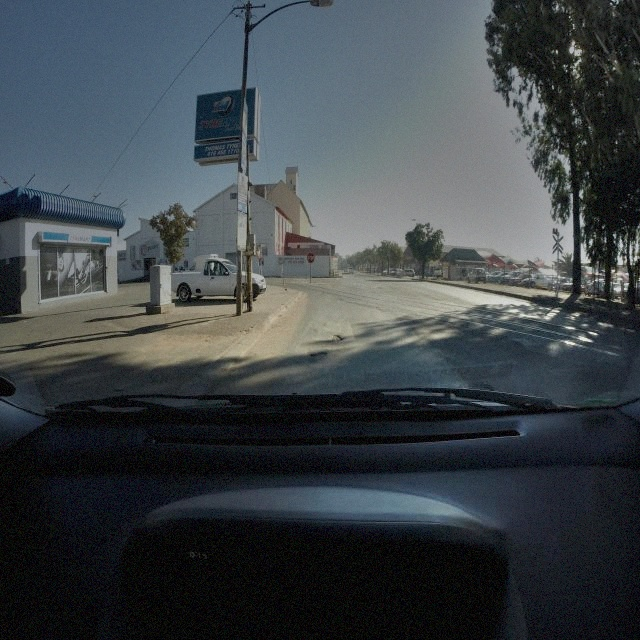pothole: (310, 347, 328, 357), (332, 332, 342, 343)
